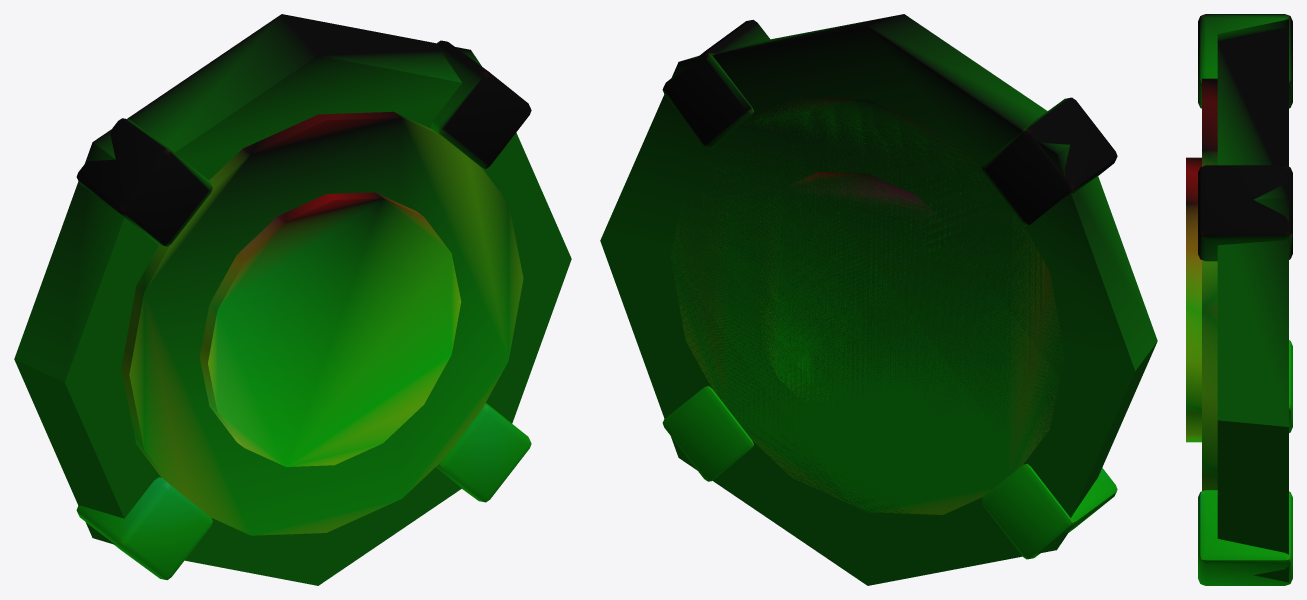
File: hero_puzzle_target_plate.glb
The picture shows the model from 3 angles, left to right: view 1: azimuth 30°, elevation 25°; view 2: azimuth 150°, elevation 25°; view 3: azimuth 270°, elevation 25°; orthographic projection. The views are drawn at different scales.
Visible parts, largest first — view 1: HeroPuzzleTargetPlate; view 2: HeroPuzzleTargetPlate; view 3: HeroPuzzleTargetPlate.
Boxes of the visible parts, x1,y1,x2,y2 form: HeroPuzzleTargetPlate: (14,14,571,585); HeroPuzzleTargetPlate: (600,14,1157,585); HeroPuzzleTargetPlate: (1186,14,1292,585).
Bounding box in the file's own units: 1.52 × 1.52 × 0.27.
